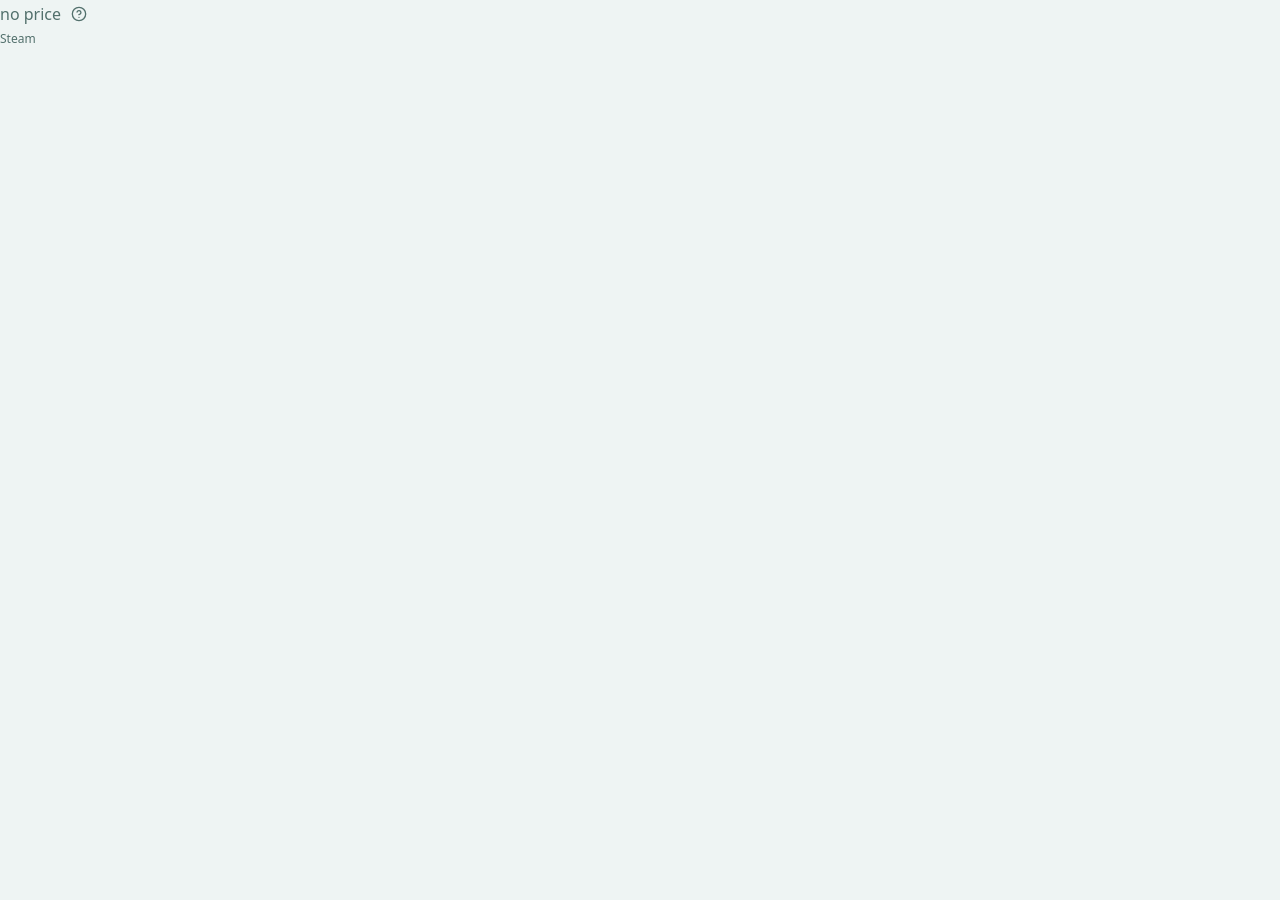
Scenario: preço mínimo compacto com ajuda por linha (D370) › sem taxa: "no price" curto, sem aviso grande, e o balão cita a loja e leva a Lojas
Expected: the text "no price" is shown, [0,2,61,26]
Expected: the text "no sale fee set" is not shown
Click the button named "Help:": (79, 14) [65,0,93,28]
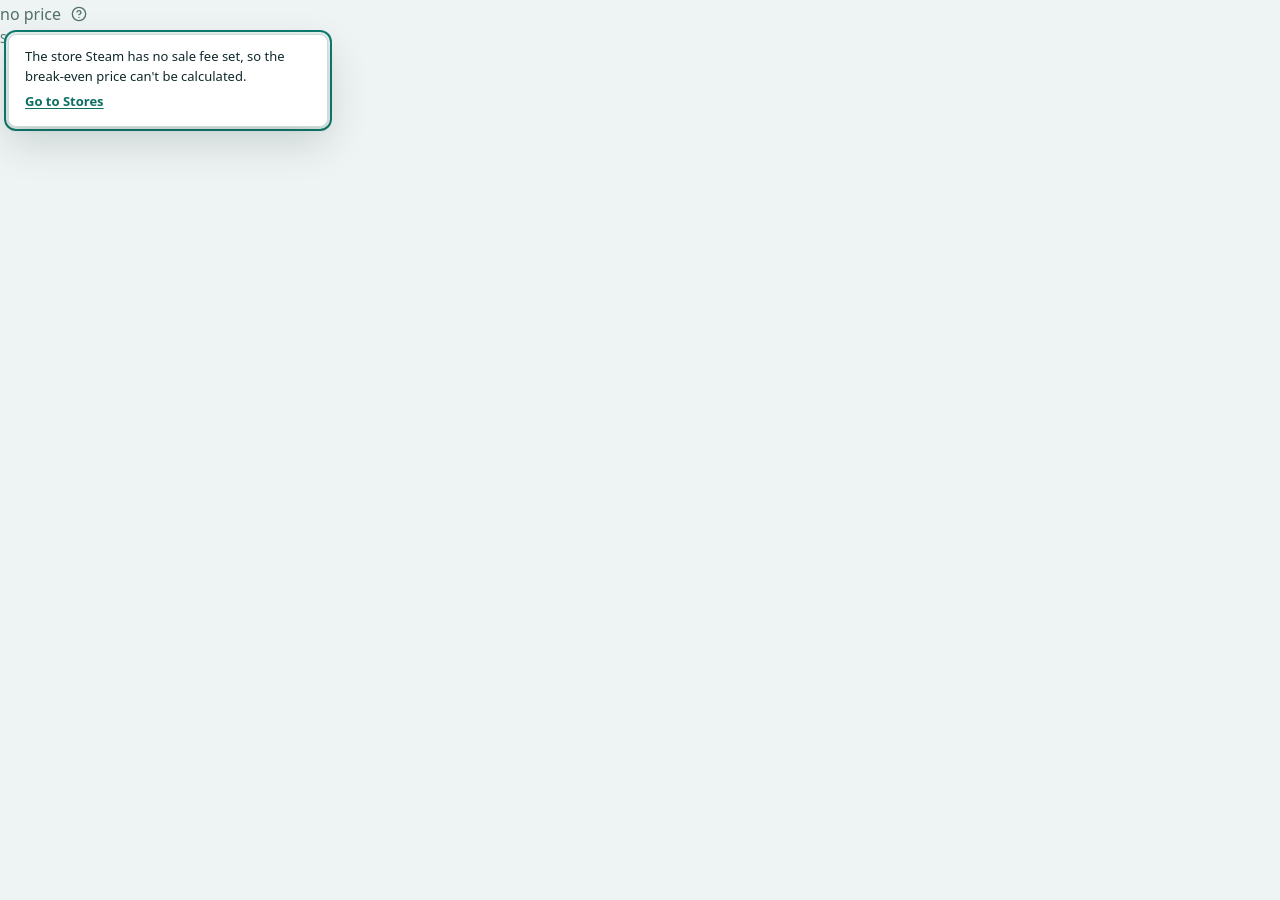
Result: the text "The store Steam has no sale fee set" is shown at [25,47,284,84]
